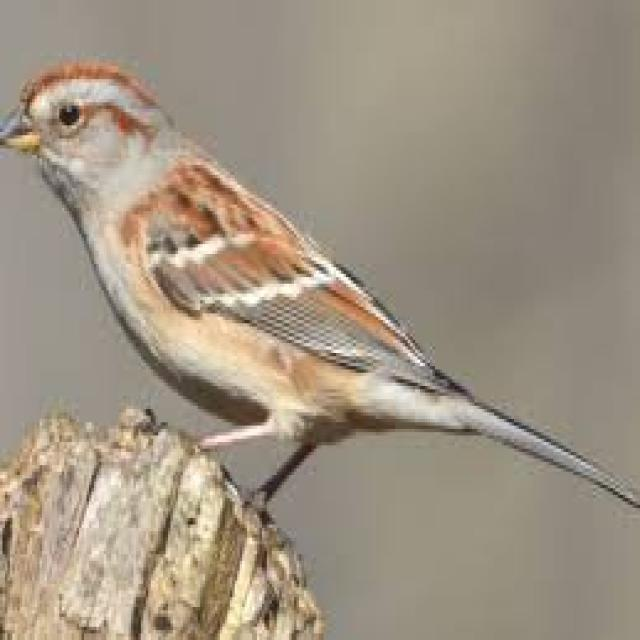Sparrow: (4, 51, 625, 523)
